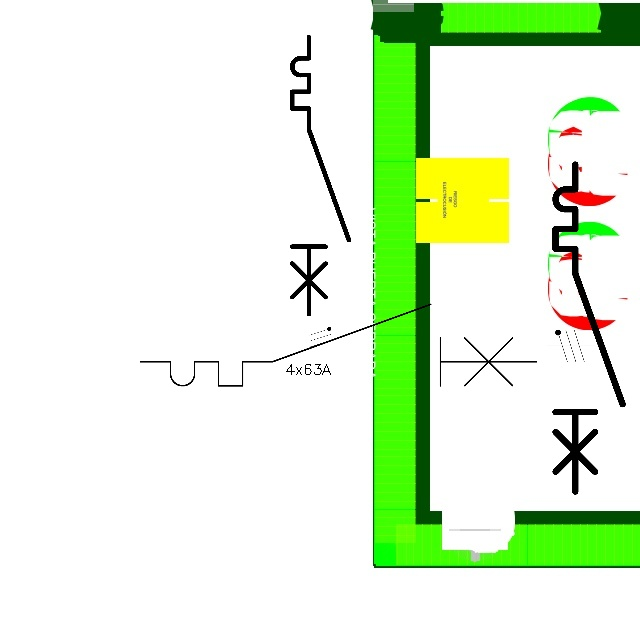interruptor_termomagnetico: (130, 294, 547, 396), (547, 156, 631, 500), (285, 30, 356, 321)
